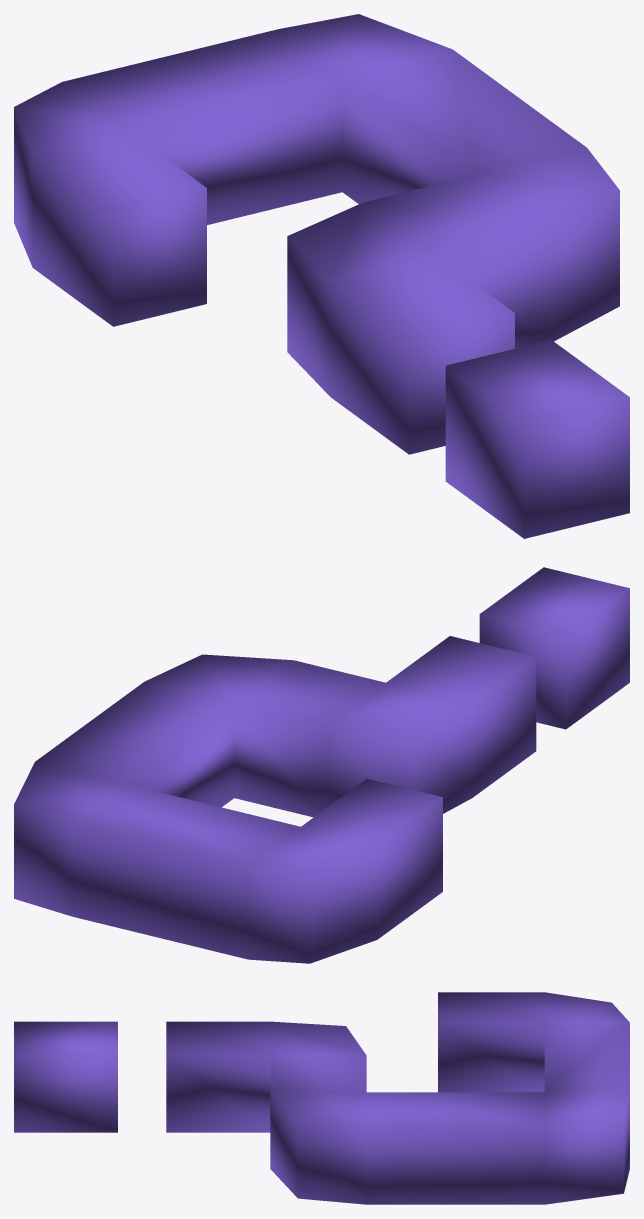
Rendered from question_mark.glb.
3 views of the same model, one above another, from view 1: azimuth 30°, elevation 25°; view 2: azimuth 150°, elevation 25°; view 3: azimuth 270°, elevation 25° (orthographic). The views are drawn at different scales.
Parts seen in each view (by area): view 1: Plane; view 2: Plane; view 3: Plane.
Part boxes in pixels (box(x1,y1,x2,y2)): Plane: box(14, 14, 629, 538); Plane: box(14, 567, 629, 963); Plane: box(14, 992, 629, 1204).
Bounding box in the file's own units: 0.1717 × 0.0452 × 0.3292.
